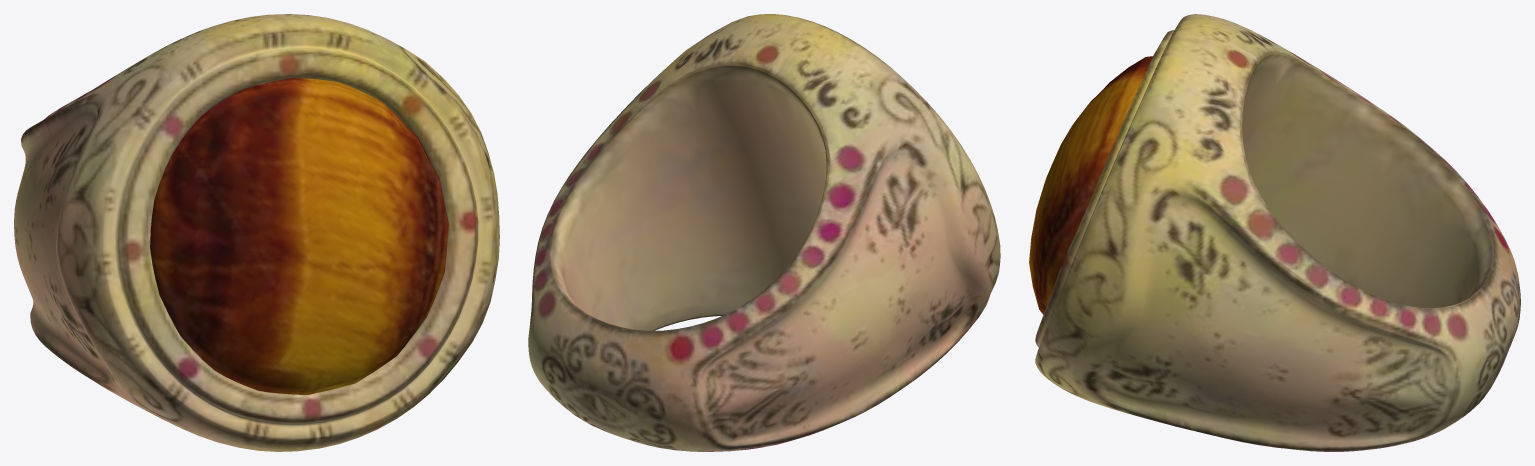
File: an_old_ring.glb
The picture shows the model from 3 angles, left to right: view 1: azimuth 30°, elevation 25°; view 2: azimuth 150°, elevation 25°; view 3: azimuth 270°, elevation 25°; orthographic projection. The views are drawn at different scales.
Parts seen in each view (by area): view 1: ring_low_EMP_Accessories_0; view 2: ring_low_EMP_Accessories_0; view 3: ring_low_EMP_Accessories_0.
Boxes of the visible parts, box(x1,y1,x2,y2) form: ring_low_EMP_Accessories_0: box(14, 14, 499, 451); ring_low_EMP_Accessories_0: box(528, 14, 1000, 451); ring_low_EMP_Accessories_0: box(1029, 14, 1520, 451).
Bounding box in the file's own units: 1.86 × 1.66 × 2.09.
1 material, 1 textured.
